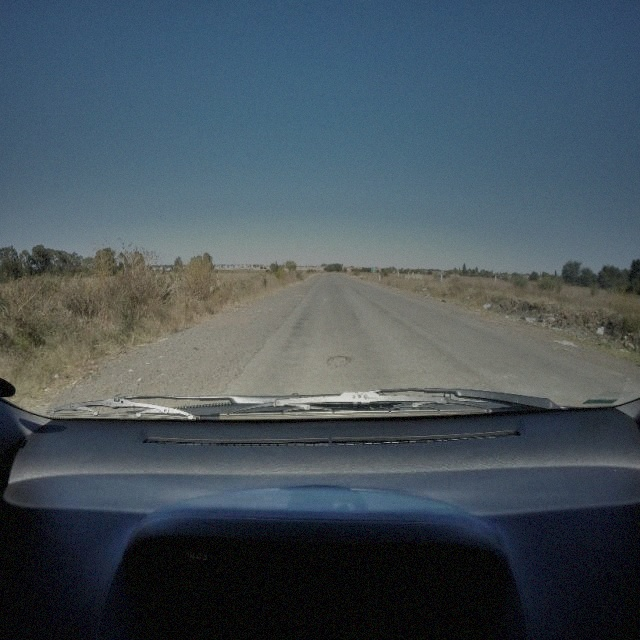pothole: (325, 353, 351, 368)
